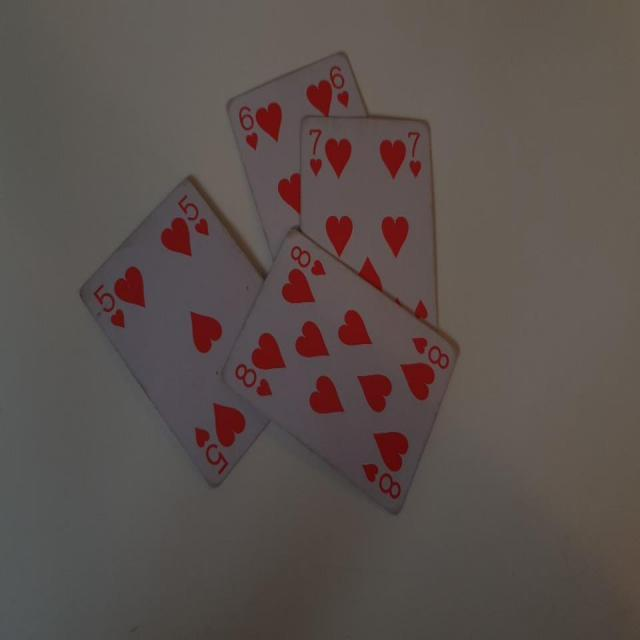5 of hearts: (78, 170, 270, 492)
6 of hearts: (223, 31, 370, 288)
7 of hearts: (295, 114, 450, 328)
8 of hearts: (222, 217, 463, 517)
